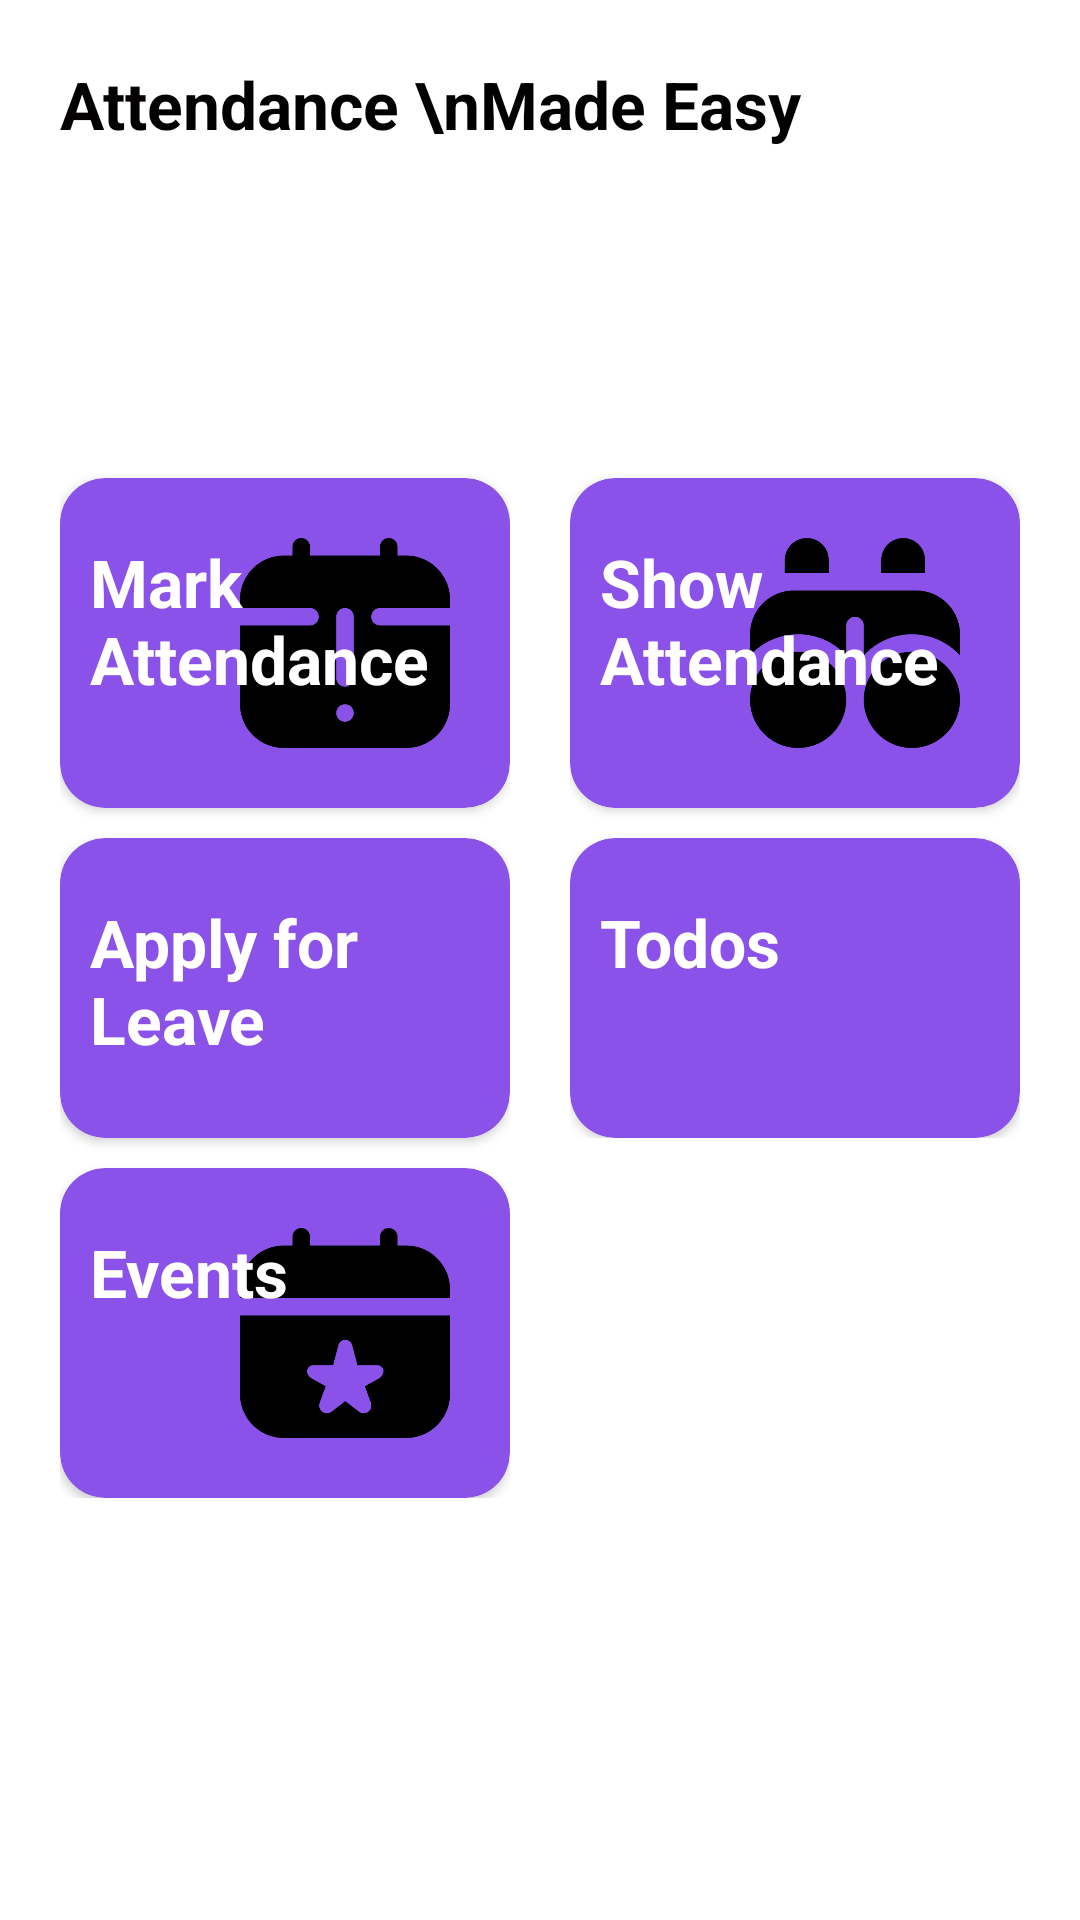

Where to tap for icons on this 1080 x 1920 app screen, as point (x, y):
calendar star: point (341, 1333)
